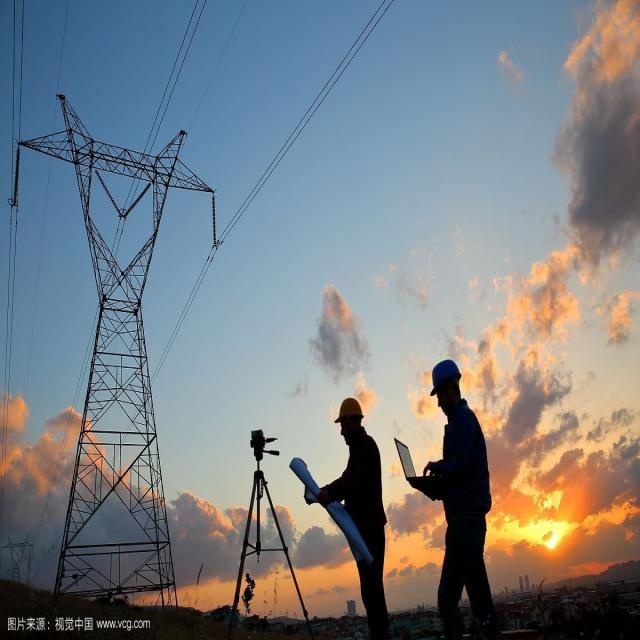Con_Casco: (430, 358, 463, 408), (333, 397, 363, 445)
